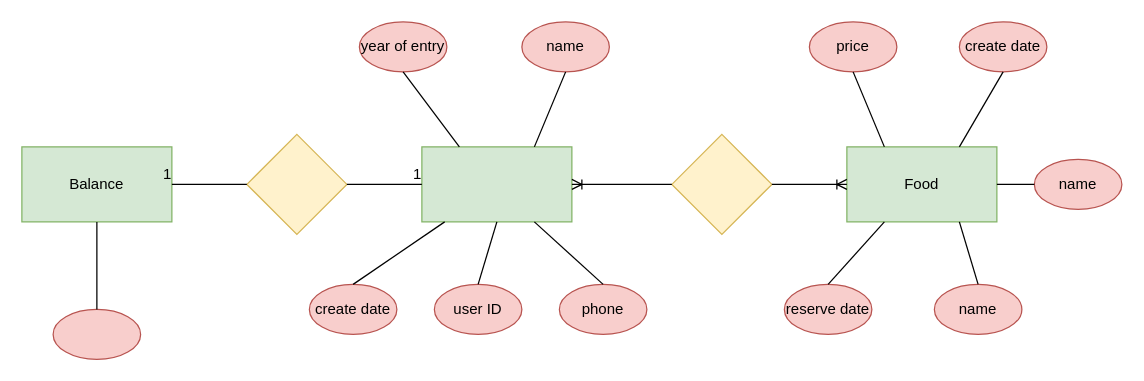
Some shapes in this 1144 by 381 pixel diagram are drawn without their labels. The centre of each missing label's shape, as x and y in pixels:
cash: the point at 96,333
have: the point at 296,183
reserve: the point at 721,183
Student: the point at 496,184
